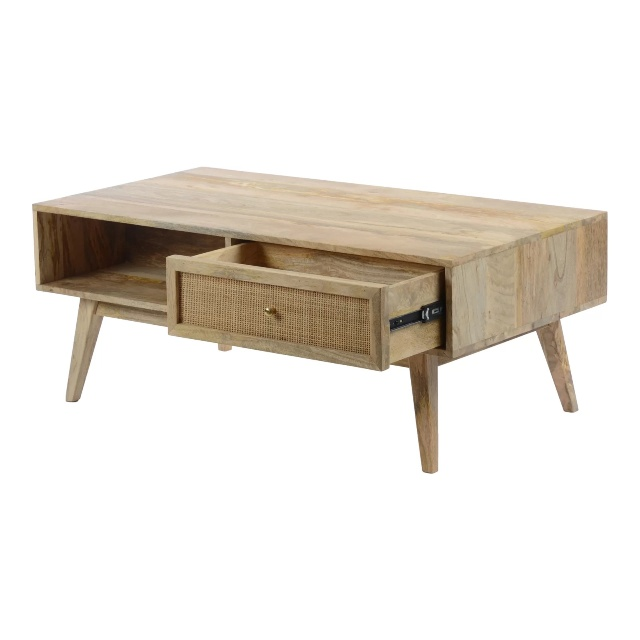obstacle: (33, 168, 606, 472)
